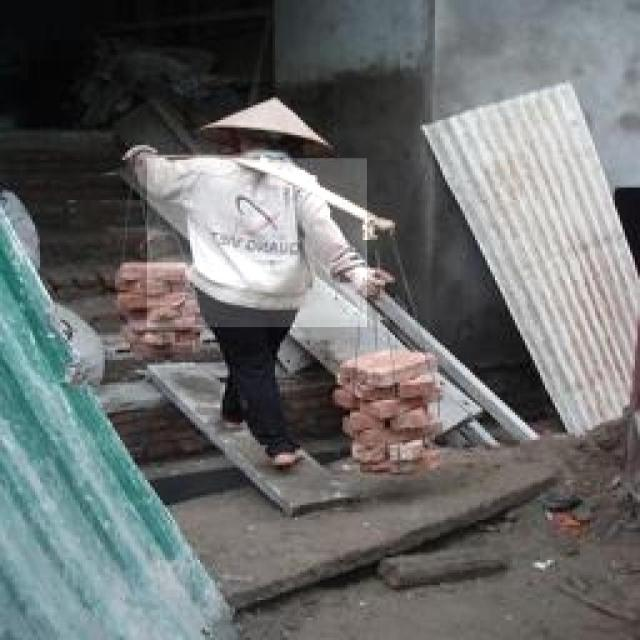Helmet: (147, 158, 367, 327), (184, 82, 334, 175)
